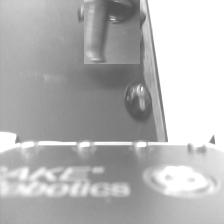Door Handle: (80, 0, 143, 59)
Lock: (125, 78, 155, 124)
